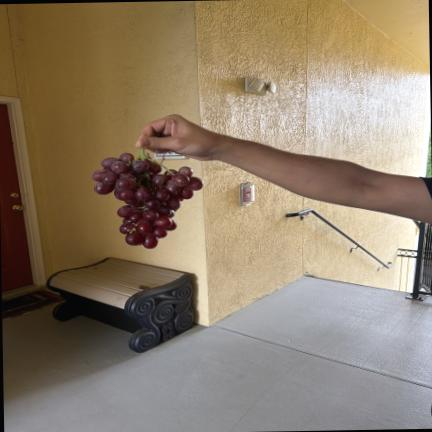grape_cluster: (91, 148, 204, 248)
